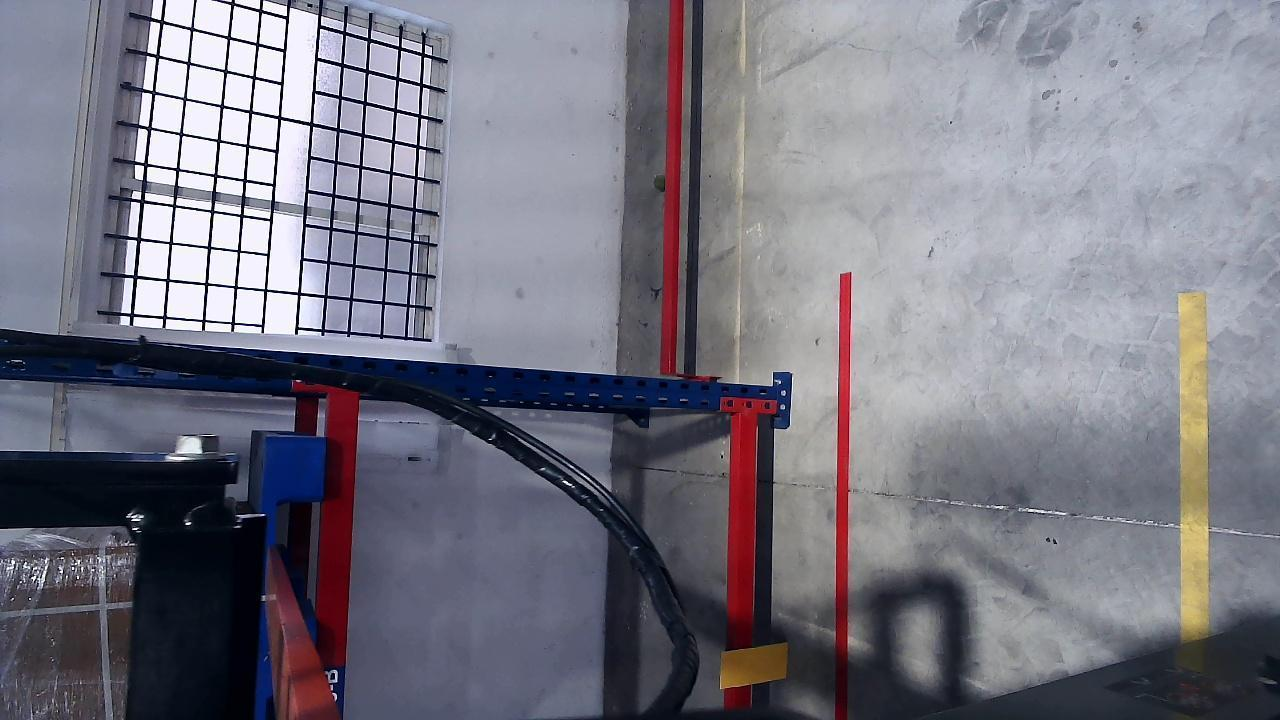red_line: (832, 277, 851, 714)
yellow_line: (1177, 292, 1210, 638)
